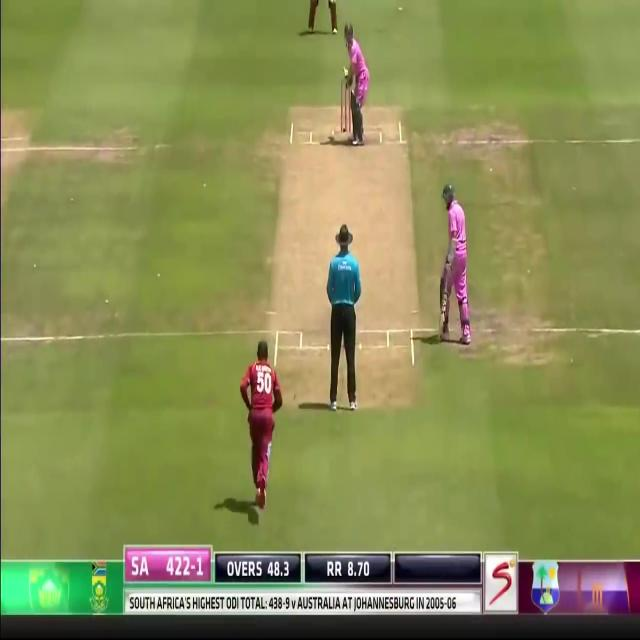Ball: (441, 181, 472, 343), (342, 23, 371, 146)
Fielder: (240, 338, 281, 512), (306, 0, 340, 32)
Umpire: (327, 225, 360, 415)
